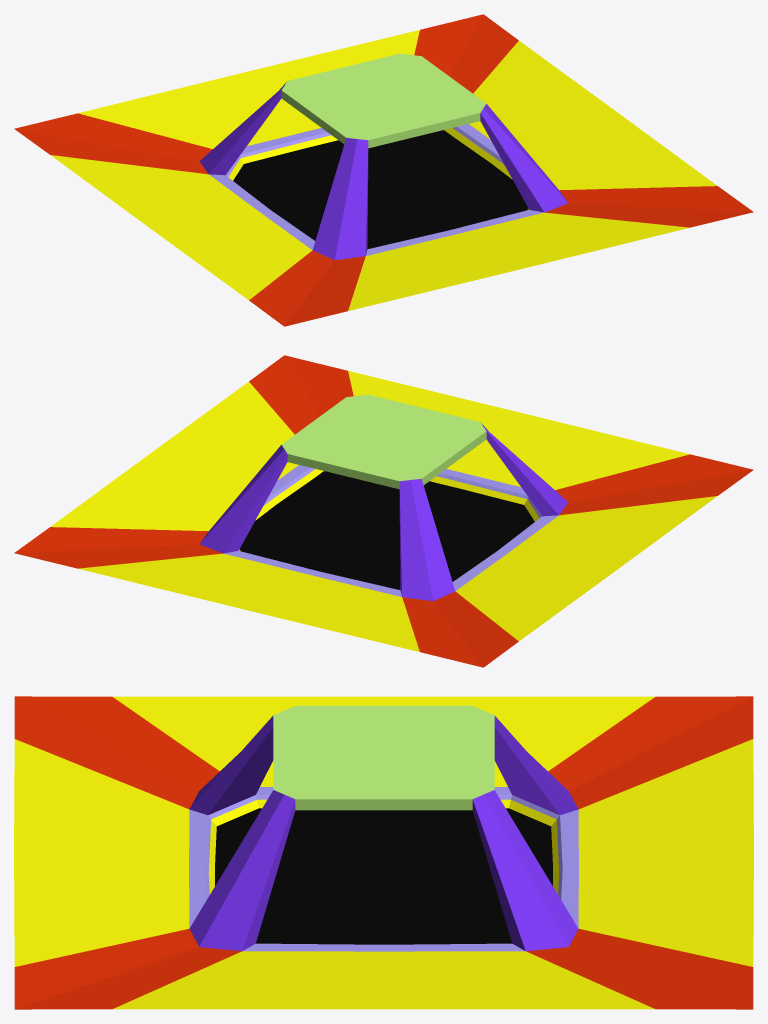
Rendered from hang em high.fbx.
The picture shows the model from 3 angles, top to bottom: view 1: azimuth 30°, elevation 25°; view 2: azimuth 150°, elevation 25°; view 3: azimuth 270°, elevation 25°; orthographic projection. The views are drawn at different scales.
Visible parts, largest first — view 1: hub collector, screen; view 2: hub collector, screen; view 3: hub collector, screen.
Boxes of the visible parts, x1,y1,x2,y2 form: hub collector: (14, 14, 753, 326); screen: (233, 130, 528, 248); hub collector: (14, 355, 753, 667); screen: (239, 471, 534, 589); hub collector: (14, 696, 753, 1009); screen: (215, 808, 552, 944).
Size of the model in its own units: 2001 by 618 by 1998.
